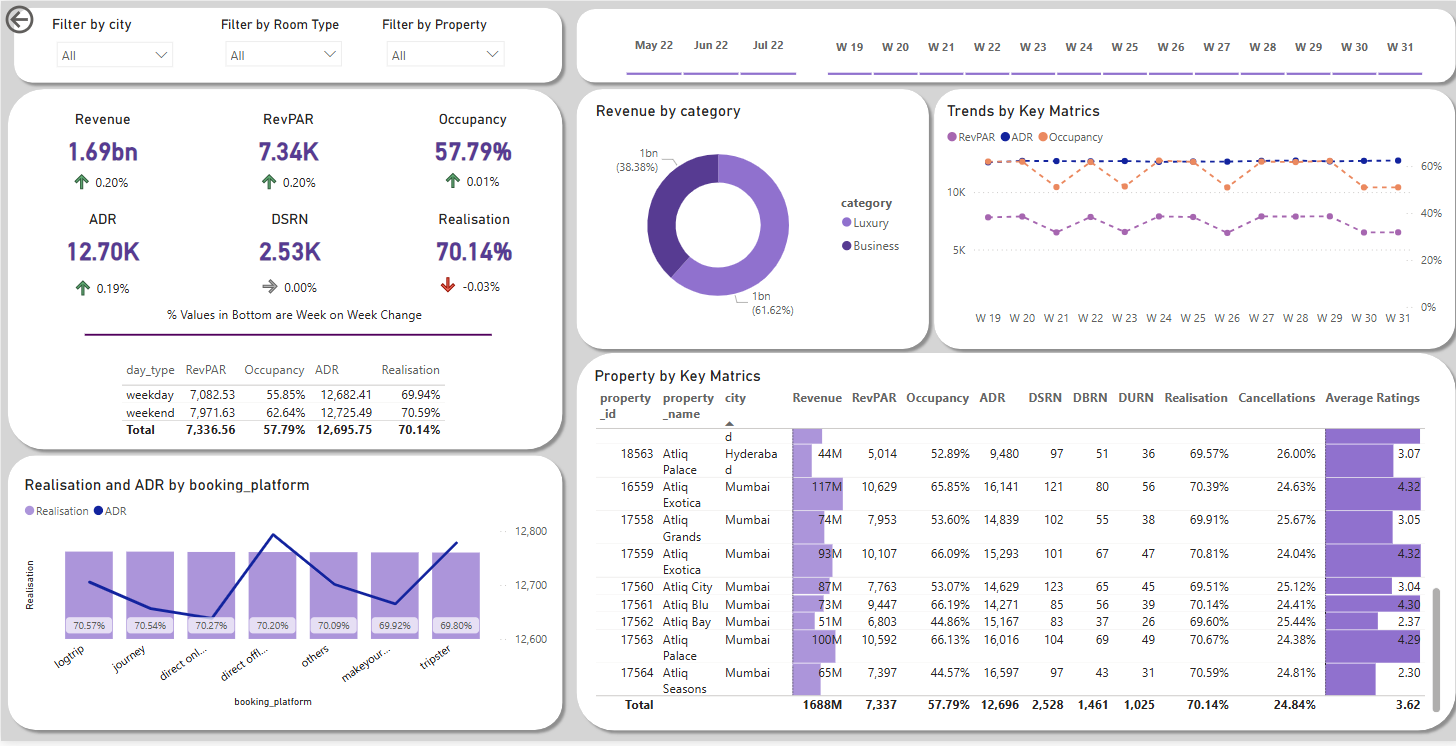

This screenshot's page, from the dashboard's own definition file:
{"tool":"powerbi","page":{"name":"Page 1","canvas":[1580,800],"ordinal":0},"visuals":[{"type":"shape","box":[7.2,0,607.2,95.7],"z":0},{"type":"shape","box":[0,88.4,614.5,404.3],"z":1000},{"type":"tableEx","fields":{"Values":["key_measure.Realisation WoW change"]},"box":[463.8,263.8,95.7,60.9],"z":2000},{"type":"tableEx","fields":{"Values":["key_measure.DSRN WoW change"]},"box":[271,265.5,82.6,60.9],"z":3000},{"type":"tableEx","fields":{"Values":["key_measure.ADR WoW Change"]},"box":[69.4,266.7,91.7,69.4],"z":4000},{"type":"tableEx","fields":{"Values":["key_measure.Occupancy WoW change"]},"box":[468.8,150.6,101.3,75.3],"z":5000},{"type":"shape","box":[614.5,1.7,965.2,94.2],"z":6000},{"type":"shape","box":[1001.4,88.4,578.3,295.7],"z":7000},{"type":"shape","box":[614.5,88.4,395.7,295.7],"z":8000},{"type":"shape","box":[614.8,372.5,965.2,423.2],"z":9000},{"type":"tableEx","title":"Property by Key Matrics","fields":{"Values":["dim_hotels.property_id","dim_hotels.property_name","dim_hotels.city","key_measure.Revenue","key_measure.RevPAR","key_measure.Occupancy","key_measure.ADR","key_measure.DSRN","key_measure.DBRN","key_measure.DURN","key_measure.Realisation","key_measure.Cancellations"]},"box":[636.2,394.2,924.6,379.7],"z":10000},{"type":"slicer","title":"Filter by city","fields":{"Values":["dim_hotels.city"]},"box":[50,16.7,145.8,66.7],"z":11000},{"type":"slicer","title":"Filter by Room Type","fields":{"Values":["dim_rooms.room_class"]},"box":[231.9,16.7,145.8,66.7],"z":12000},{"type":"actionButton","box":[0,0,100,40],"z":13000},{"type":"slicer","fields":{"Values":["dim_date.mmm yy"]},"box":[650,9.7,233.3,77.8],"z":14000},{"type":"slicer","fields":{"Values":["dim_date.week no"]},"box":[868.1,13.9,693.1,73.6],"z":15000},{"type":"tableEx","fields":{"Values":["key_measure.Revenue WoW change"]},"box":[68.1,151.4,93.1,75],"z":16000},{"type":"tableEx","fields":{"Values":["key_measure.RevPAR WoW change"]},"box":[270.8,151.4,94.4,59.7],"z":17000},{"type":"card","title":"Revenue","fields":{"Values":["key_measure.Revenue"]},"box":[24.1,118.3,171,66.7],"z":18000},{"type":"card","title":"ADR","fields":{"Values":["key_measure.ADR"]},"box":[24.1,227,171,68.1],"z":19000},{"type":"card","title":"RevPAR","fields":{"Values":["key_measure.RevPAR"]},"box":[231.3,118.3,159.4,66.7],"z":20000},{"type":"card","title":"Occupancy","fields":{"Values":["key_measure.Occupancy"]},"box":[429.9,118.3,160.9,66.7],"z":21000},{"type":"card","title":"DSRN","fields":{"Values":["key_measure.DSRN"]},"box":[231.9,226.4,159.4,68.1],"z":22000},{"type":"card","title":"Realisation","fields":{"Values":["key_measure.Realisation"]},"box":[430.4,226.4,160.9,68.1],"z":23000},{"type":"shape","box":[0,484.1,614.5,311.6],"z":24000},{"type":"donutChart","fields":{"Category":["dim_hotels.category"],"Y":["key_measure.Revenue"]},"box":[637.7,108.7,349.3,249.3],"z":25000},{"type":"lineChart","title":"Trends by Key Matrics","fields":{"Category":["dim_date.mmm yy.Variation.Date Hierarchy.Month","dim_date.week no"],"Y":["key_measure.RevPAR","key_measure.ADR"],"Y2":["key_measure.Occupancy"]},"box":[1018.1,108.3,545.8,252.8],"z":26000},{"type":"lineStackedColumnComboChart","fields":{"Y2":["key_measure.ADR"],"Y":["key_measure.Realisation"],"Category":["fact_bookings.booking_platform"]},"box":[20.3,511.6,575.4,256.5],"z":27000},{"type":"tableEx","fields":{"Values":["dim_date.day_type","key_measure.RevPAR","key_measure.Occupancy","key_measure.ADR","key_measure.Realisation"]},"box":[124.6,384.1,375.4,100],"z":28000},{"type":"slicer","title":"Filter by Property","fields":{"Values":["dim_hotels.property_name"]},"box":[406.9,16.7,147.2,66.7],"z":29000},{"type":"textbox","box":[173.9,324.6,307.2,47.8],"z":30000},{"type":"shape","box":[90.3,311.1,440.3,100],"z":31000}]}

Visuals, with their boxes in screenshot pixels (x1, y1, x2, y2), scaled from the page's 1580x800 canvas onto the 1456x746 screenshot:
shape: l=7, t=0, r=566, b=89
shape: l=0, t=82, r=566, b=459
tableEx - key_measure.Realisation WoW change: l=427, t=246, r=516, b=303
tableEx - key_measure.DSRN WoW change: l=250, t=248, r=326, b=304
tableEx - key_measure.ADR WoW Change: l=64, t=249, r=148, b=313
tableEx - key_measure.Occupancy WoW change: l=432, t=140, r=525, b=211
shape: l=566, t=2, r=1455, b=89
shape: l=923, t=82, r=1455, b=358
shape: l=566, t=82, r=931, b=358
shape: l=567, t=347, r=1455, b=742
"Property by Key Matrics" tableEx: l=586, t=368, r=1438, b=722
"Filter by city" slicer: l=46, t=16, r=180, b=78
"Filter by Room Type" slicer: l=214, t=16, r=348, b=78
actionButton: l=0, t=0, r=92, b=37
slicer - dim_date.mmm yy: l=599, t=9, r=814, b=82
slicer - dim_date.week no: l=800, t=13, r=1439, b=82
tableEx - key_measure.Revenue WoW change: l=63, t=141, r=149, b=211
tableEx - key_measure.RevPAR WoW change: l=250, t=141, r=337, b=197
"Revenue" card: l=22, t=110, r=180, b=173
"ADR" card: l=22, t=212, r=180, b=275
"RevPAR" card: l=213, t=110, r=360, b=173
"Occupancy" card: l=396, t=110, r=544, b=173
"DSRN" card: l=214, t=211, r=361, b=275
"Realisation" card: l=397, t=211, r=545, b=275
shape: l=0, t=451, r=566, b=742
donutChart - dim_hotels.category x key_measure.Revenue: l=588, t=101, r=910, b=334
"Trends by Key Matrics" lineChart: l=938, t=101, r=1441, b=337
lineStackedColumnComboChart - key_measure.ADR x key_measure.Realisation: l=19, t=477, r=549, b=716
tableEx - dim_date.day_type x key_measure.RevPAR: l=115, t=358, r=461, b=451
"Filter by Property" slicer: l=375, t=16, r=511, b=78
textbox: l=160, t=303, r=443, b=347
shape: l=83, t=290, r=489, b=383
